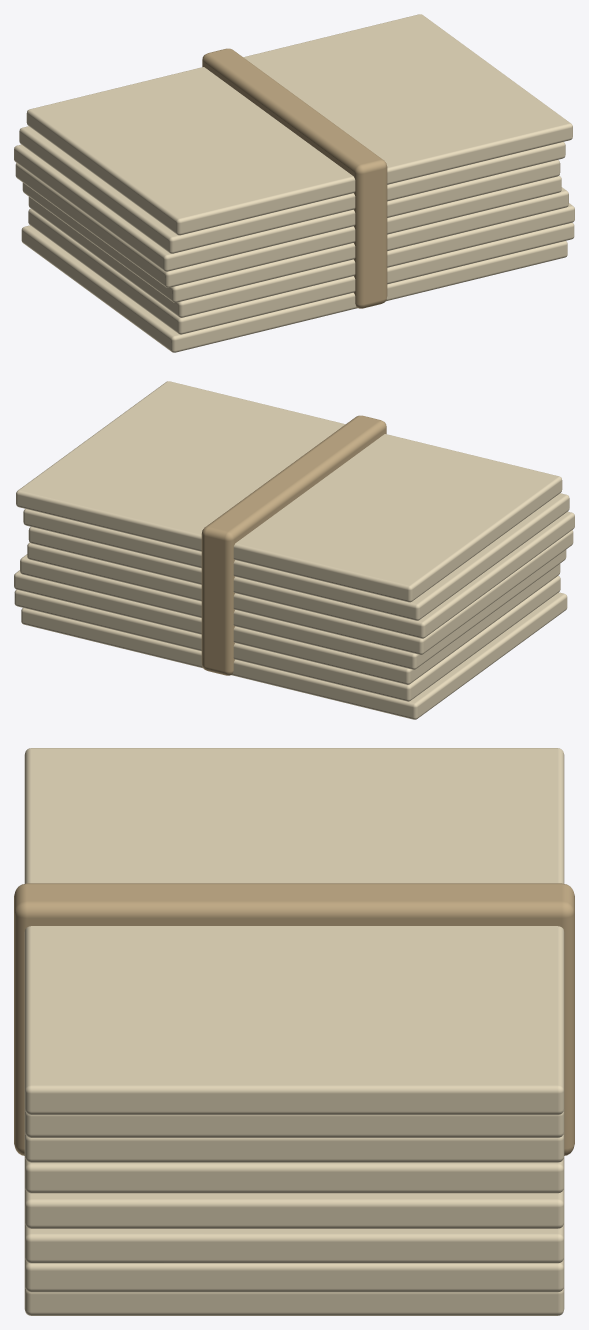
The model's file is griffin-airmail-roost-and-posthouse-letter-bundle-3deec9e9__30527.glb.
3 renders of one model, top to bottom at view 1: azimuth 30°, elevation 25°; view 2: azimuth 150°, elevation 25°; view 3: azimuth 270°, elevation 25°, orthographic. The views are drawn at different scales.
Visible parts, largest first — view 1: letter-bundle; view 2: letter-bundle; view 3: letter-bundle.
Part boxes in pixels (x1,y1,x2,y2): letter-bundle: (14, 14, 574, 352); letter-bundle: (14, 381, 574, 719); letter-bundle: (14, 748, 574, 1315).
Size of the model in its own units: 0.1556 by 0.052 by 0.104.
